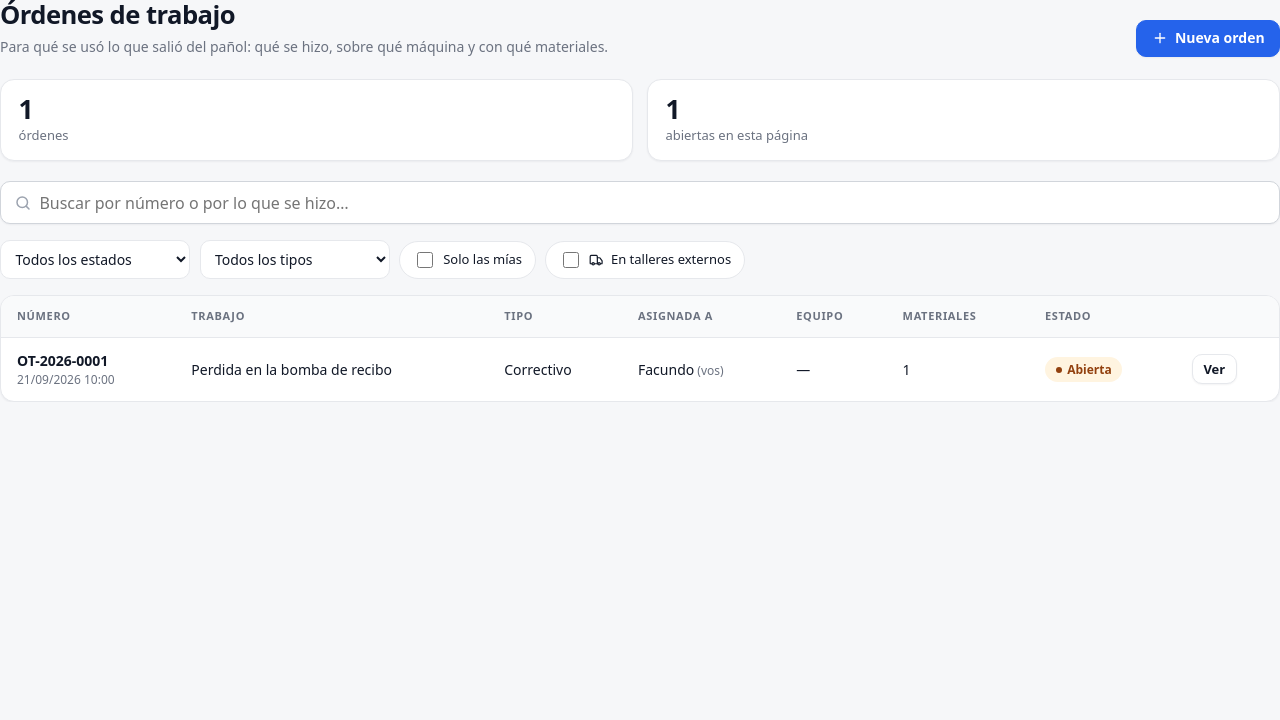
Test: OrdenesTrabajoPage › con permiso de ver equipos, el selector aparece
Click the button "Nueva orden" at (1208, 38), box [1136, 20, 1279, 56]
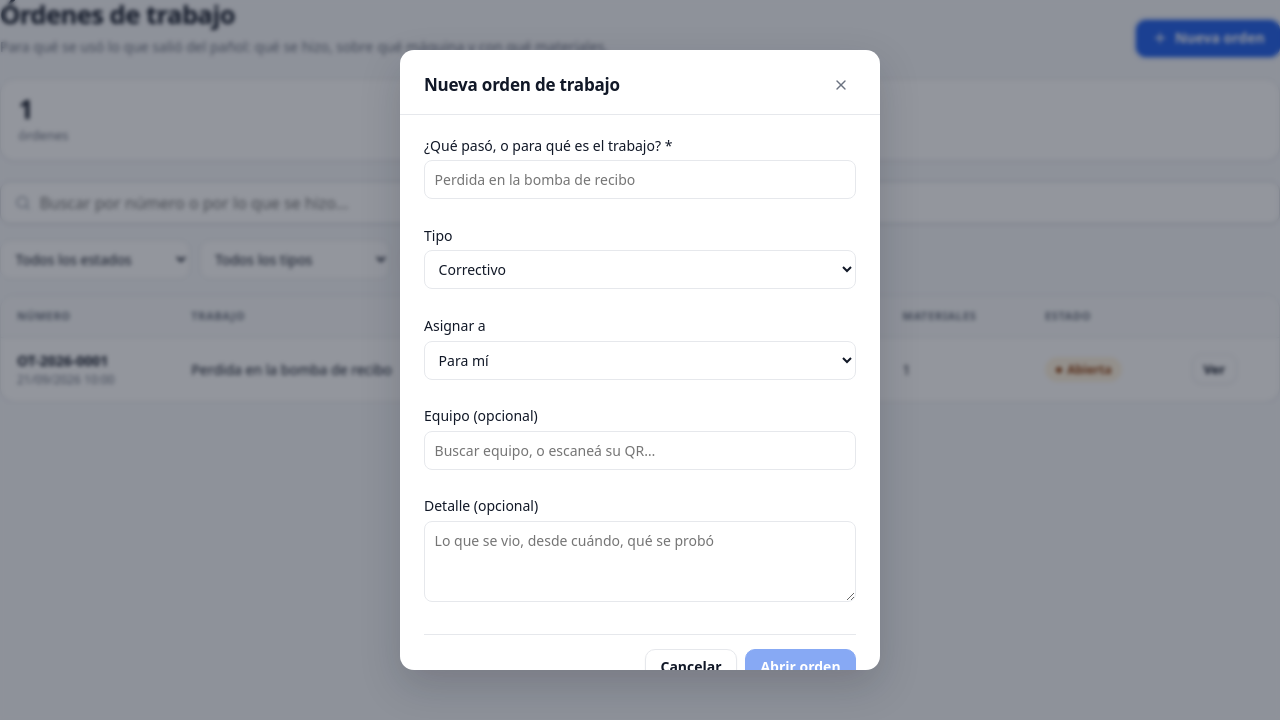
Expected: the text "Equipo (opcional)" is shown, [424, 405, 856, 470]
